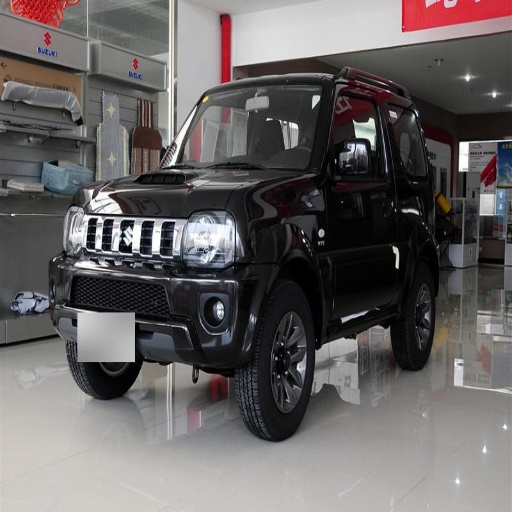front_bumper: (59, 213, 272, 369)
front_glass: (170, 87, 328, 170)
front_left_door: (327, 88, 385, 314)
